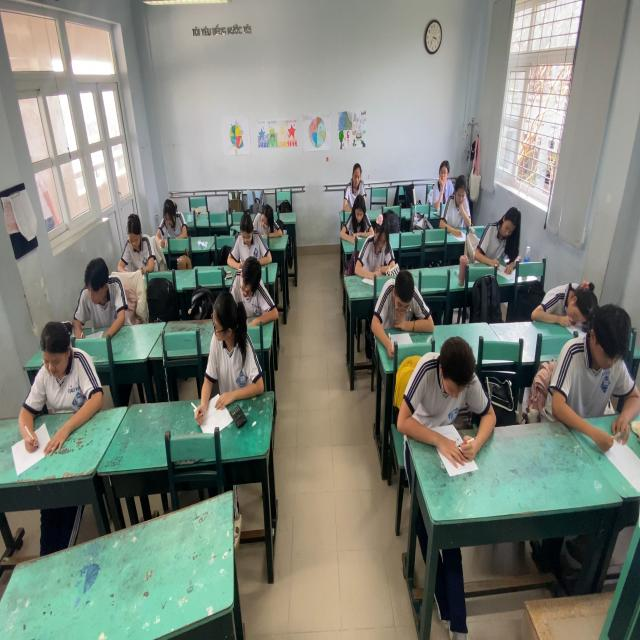cheating: (206, 296, 265, 414)
not_cheating: (402, 334, 494, 456), (19, 315, 102, 436), (566, 295, 634, 435), (371, 260, 430, 340), (68, 255, 124, 337), (475, 198, 528, 284), (544, 259, 600, 325), (231, 251, 275, 326), (118, 202, 154, 276), (232, 200, 270, 266), (154, 185, 193, 249), (357, 212, 392, 276), (441, 170, 472, 231), (341, 184, 371, 242), (249, 189, 282, 238), (342, 152, 370, 207), (432, 152, 456, 206)
